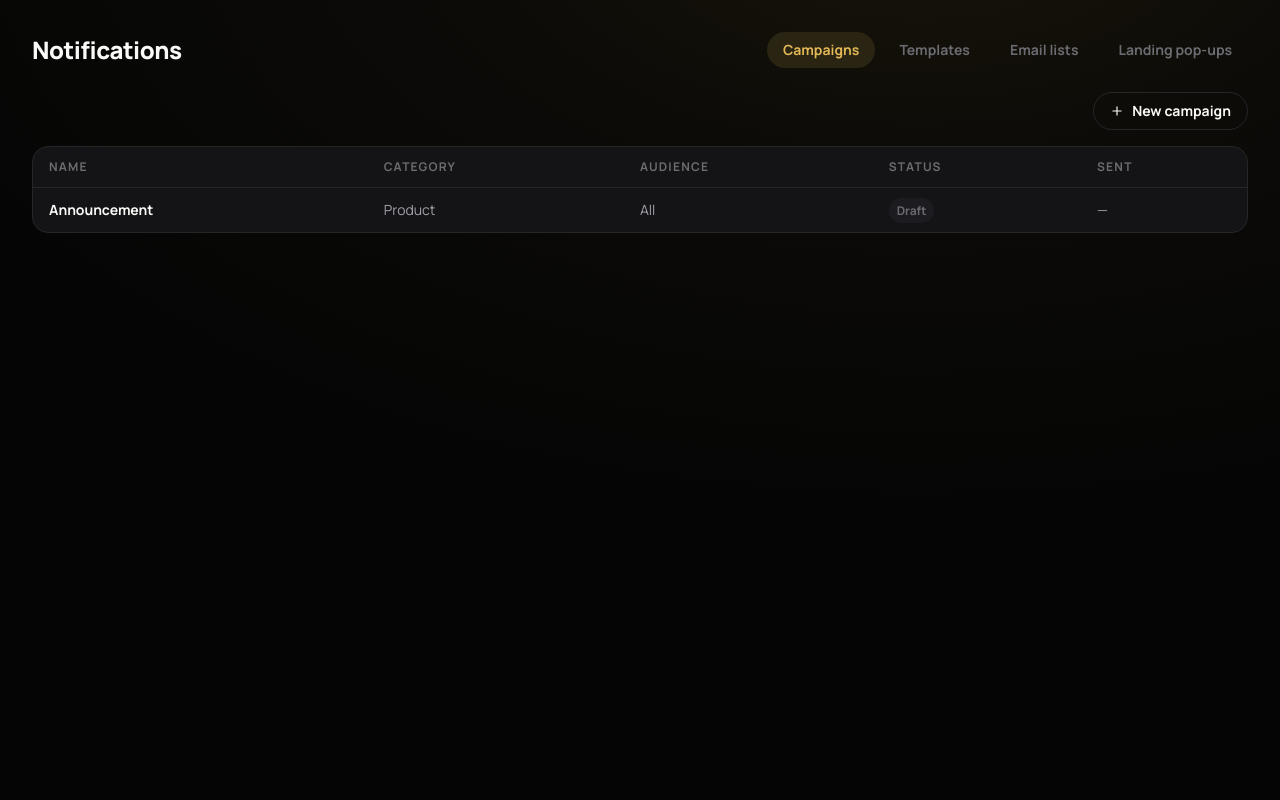
Scenario: Notifications (admin) › switches to the templates tab and shows the template with a live variable preview
Expected: the table with test id "admin-notifications-campaigns-table" is shown, [33,147,1247,232]
Click the button with test id "admin-notifications-tab-templates" at (935, 50), box [884,32,986,68]
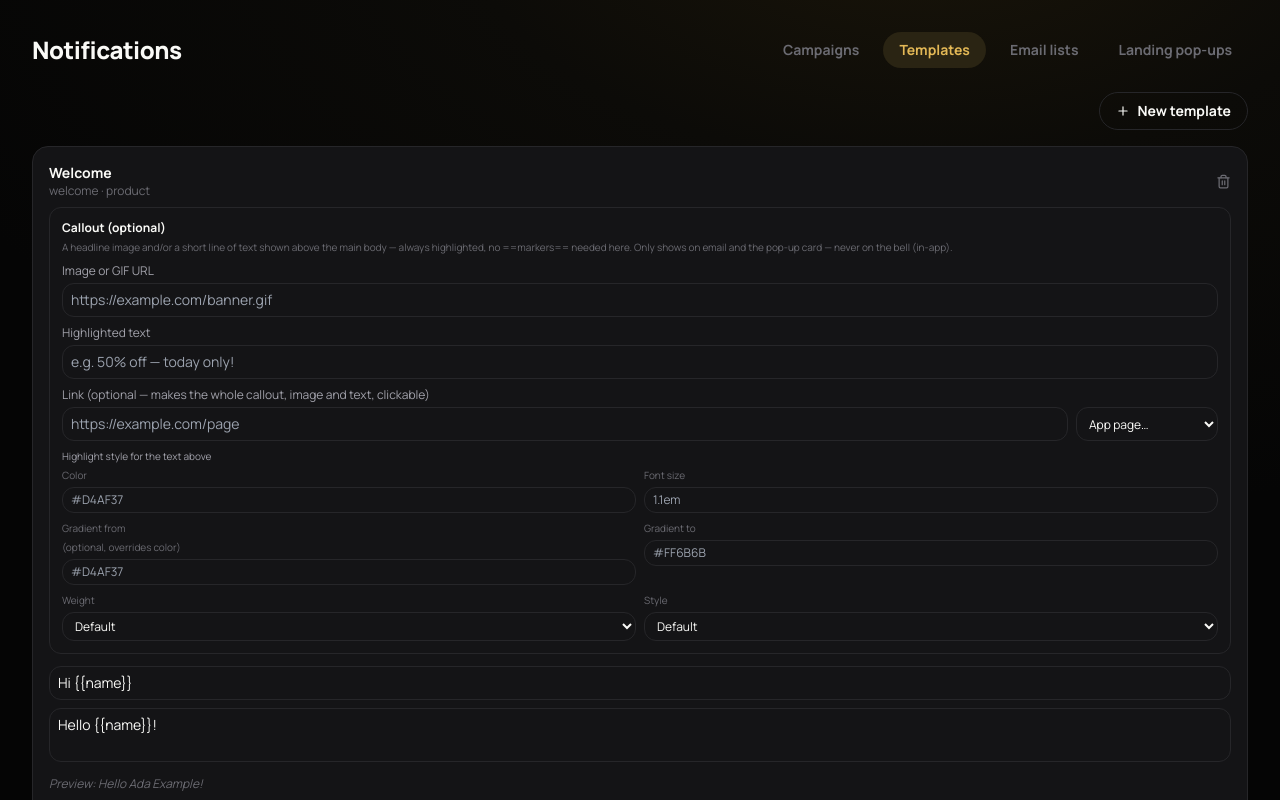
Expected: the text with test id "admin-notifications-template-preview-t1" shows "Hello Ada Example!", [98,775,203,792]
